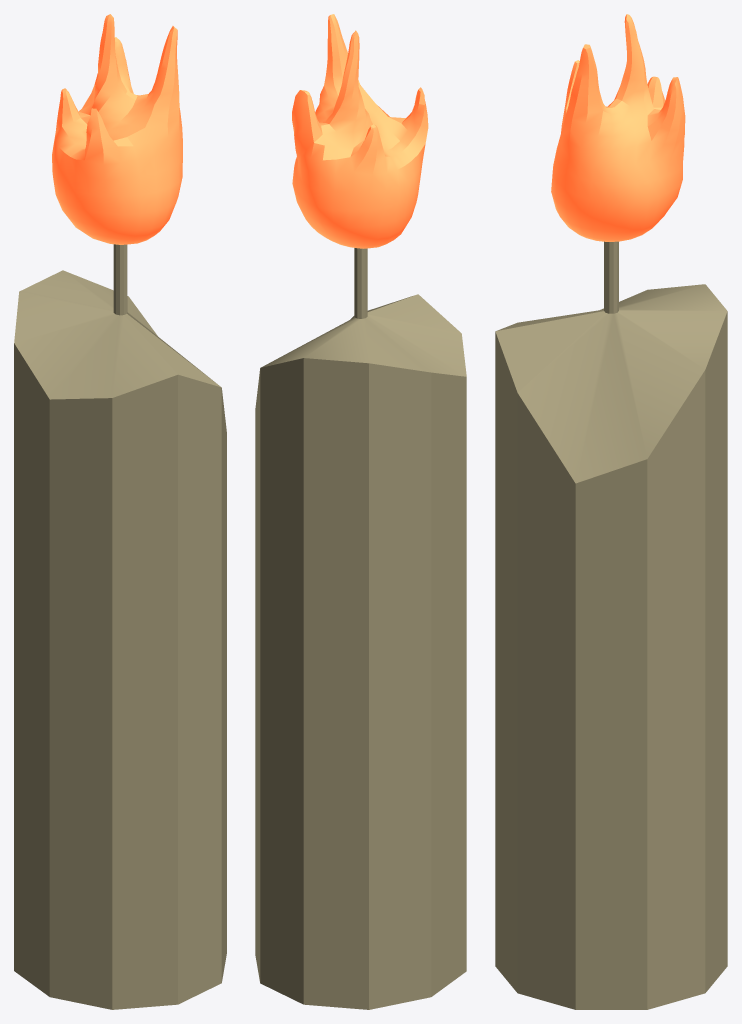
The model's file is FL_Candle 1.fbx.
3 views of the same model, side by side, from view 1: azimuth 30°, elevation 25°; view 2: azimuth 150°, elevation 25°; view 3: azimuth 270°, elevation 25° (orthographic).
Parts seen in each view (by area): view 1: Candle 2.002; view 2: Candle 2.002; view 3: Candle 2.002.
Part boxes in pixels (x1=…): Candle 2.002: x1=14, y1=14, x2=226, y2=1009; Candle 2.002: x1=255, y1=14, x2=466, y2=1009; Candle 2.002: x1=495, y1=14, x2=727, y2=1009.
Size of the model in its own units: 15.79 by 80.39 by 17.79.
